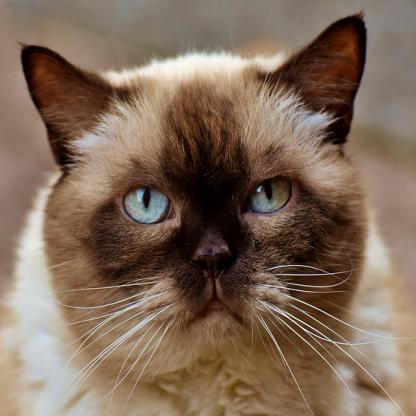cat: (21, 10, 367, 416)
